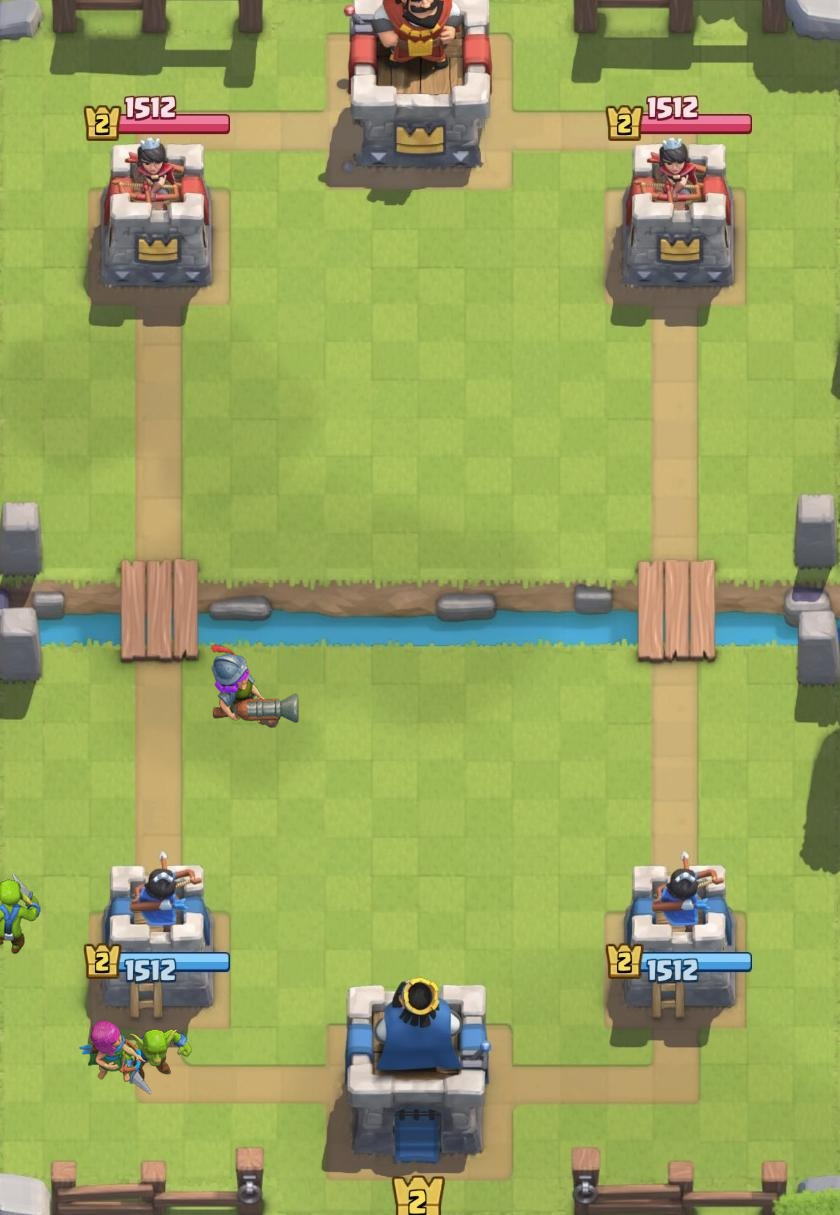archer_ally: (79, 1020, 146, 1082)
goblin_ally: (119, 1029, 192, 1095), (0, 873, 41, 955)
musketeer_enemy: (210, 644, 299, 729)
